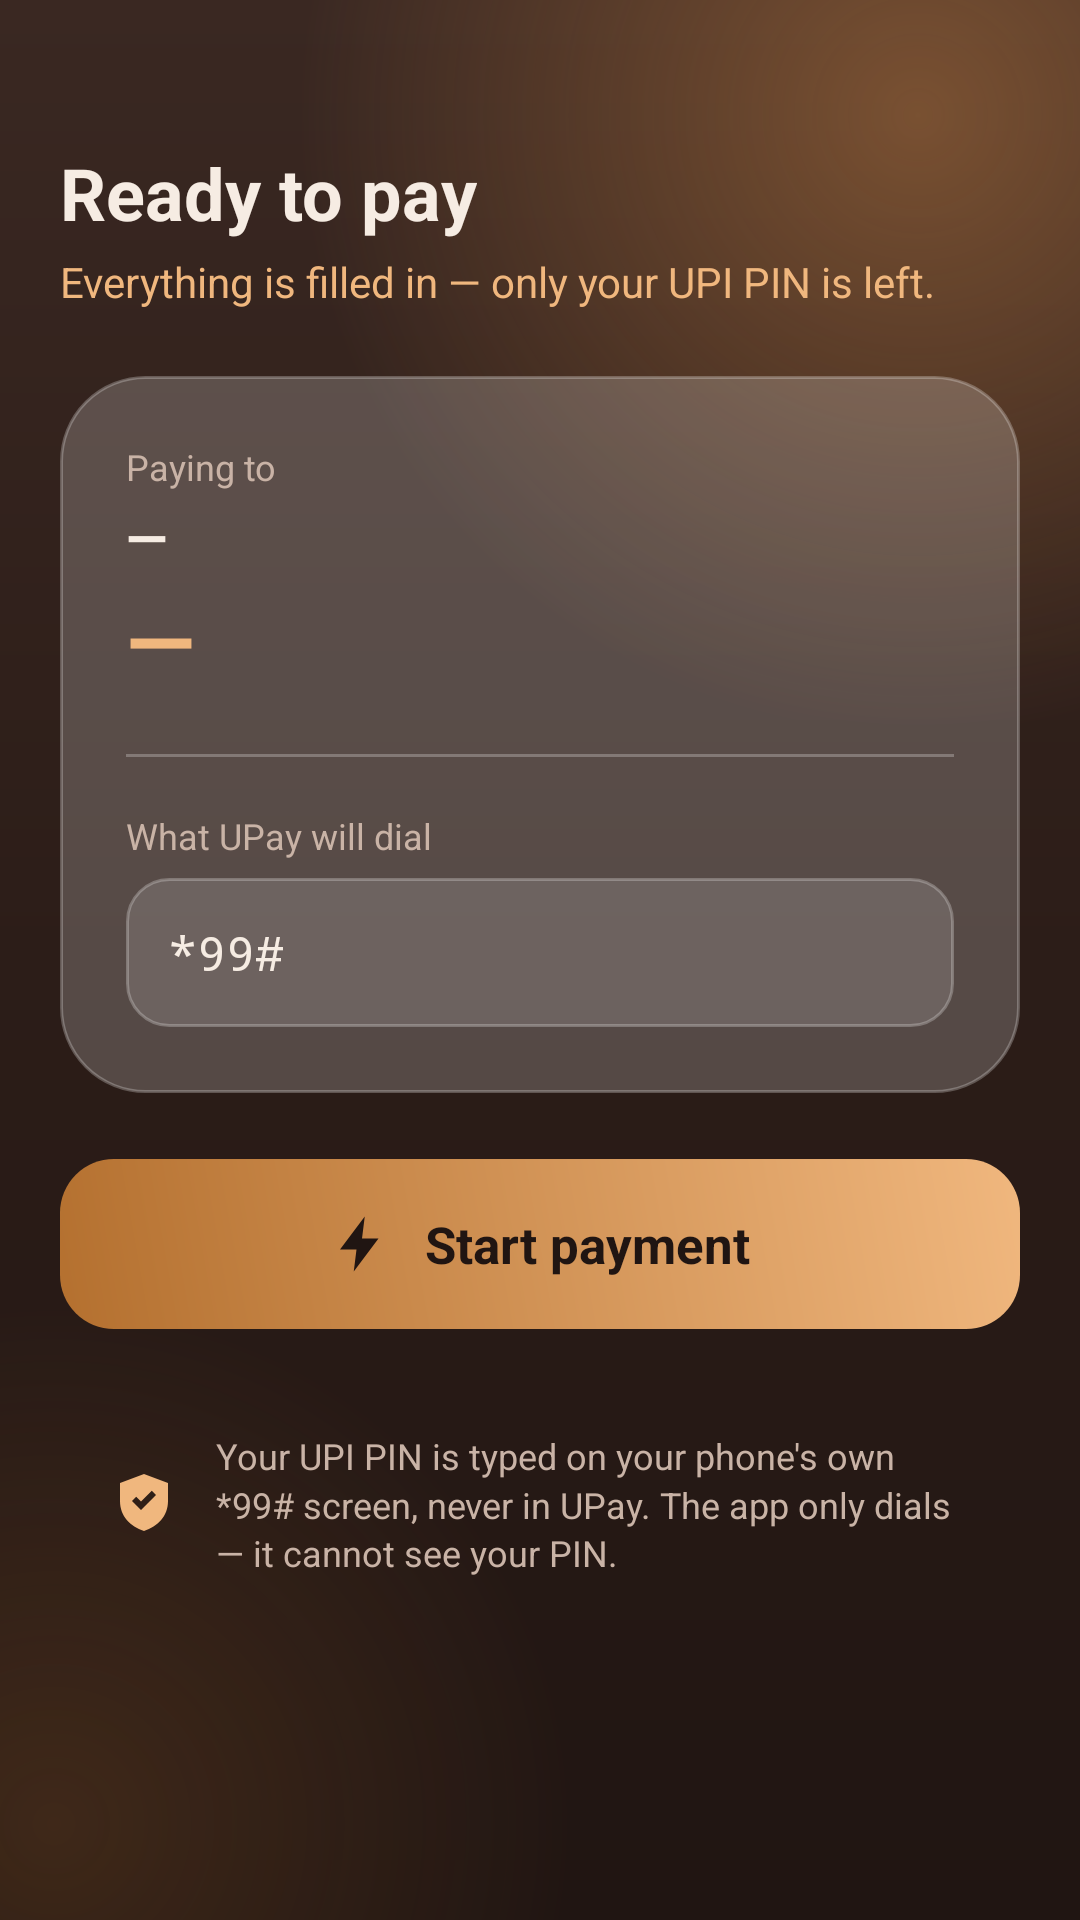

Icon click points for this 1080*1920 phone screenshot, format [x,y]:
bolt: [359,1244]
shield: [144,1502]
